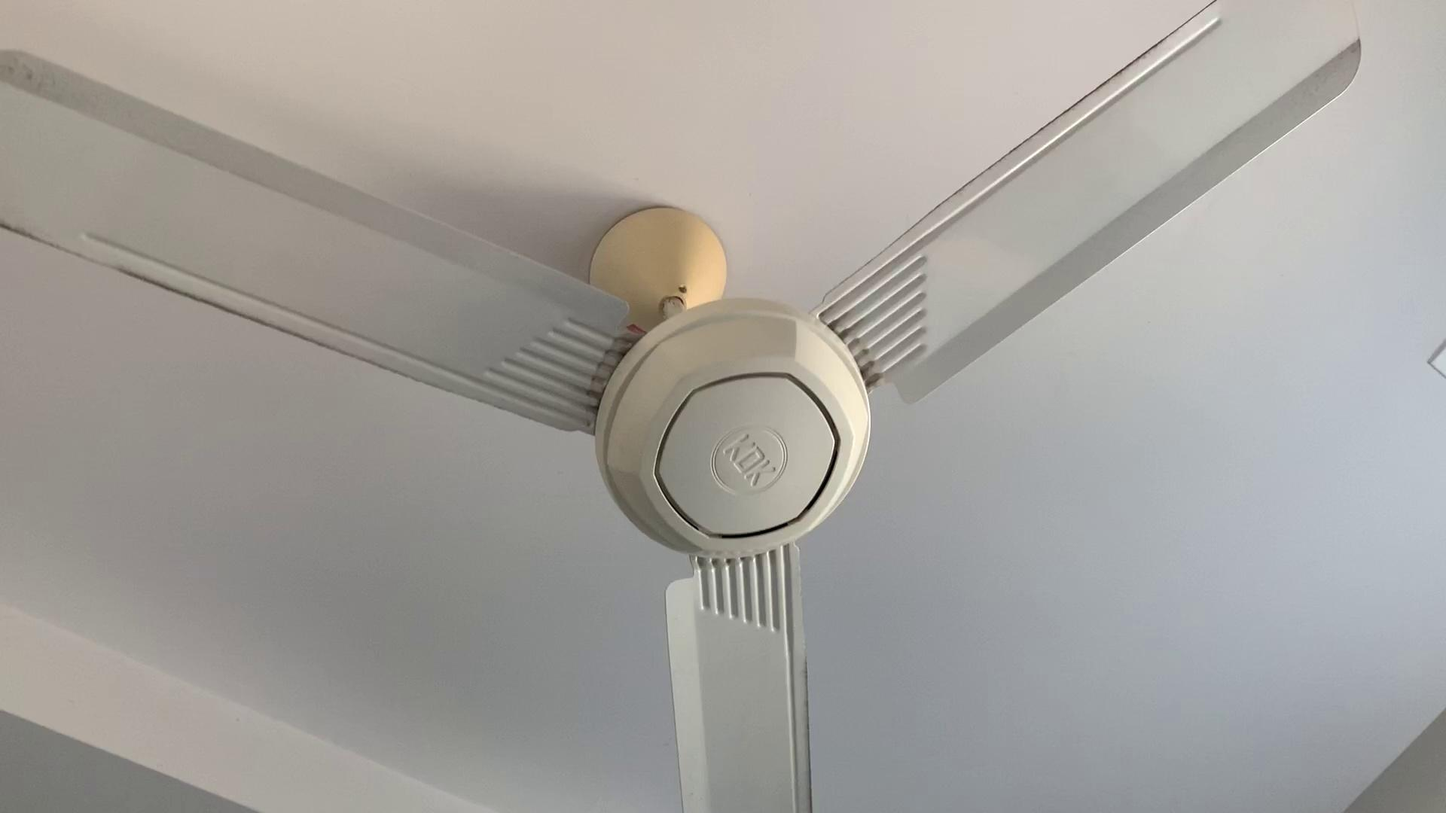fan: (0, 11, 1374, 813)
